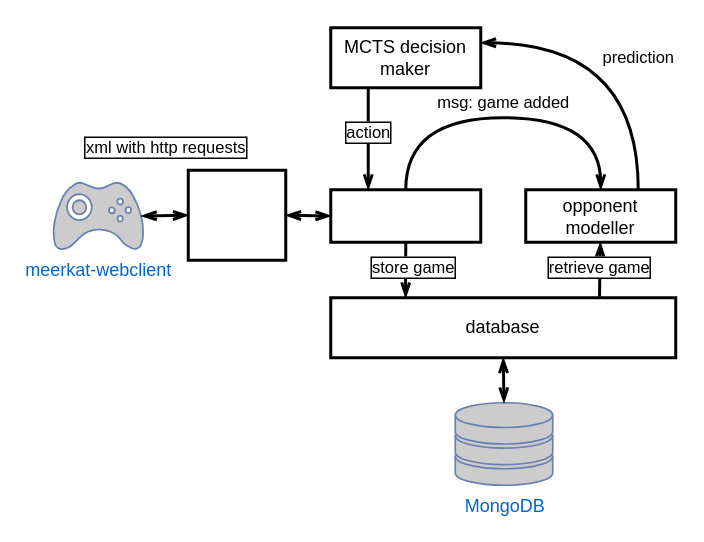
Image size: 704x542. Some labels were removed from this diagram. The box of each missing label's shape, as (x1, y1, x2, y2) in pixels:
controller: (328, 188, 482, 243)
pokerbot http interface: (186, 168, 286, 261)
